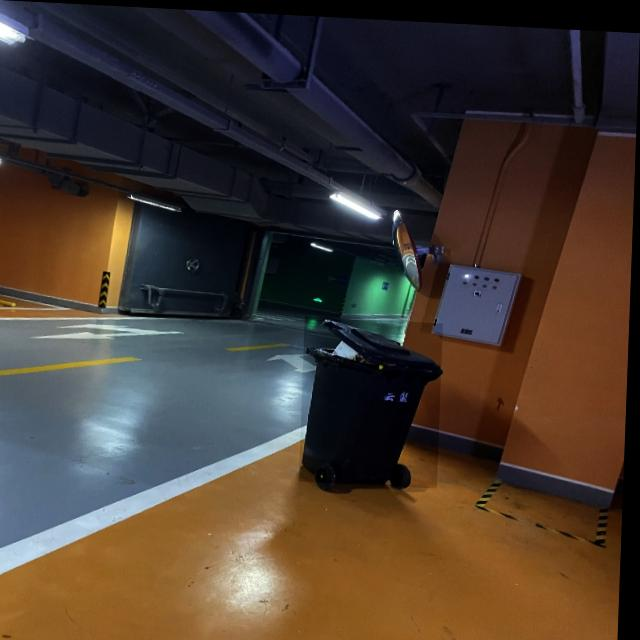overflow: (302, 313, 445, 483)
